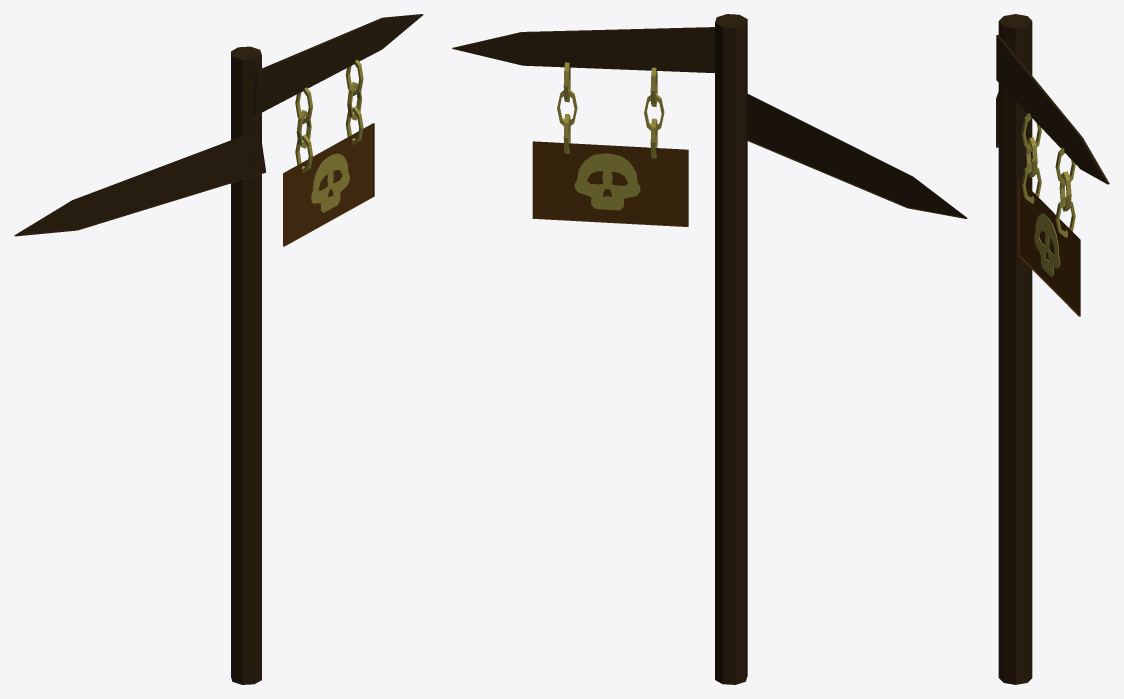
File: bord2.fbx
3 views of the same model, side by side, from view 1: azimuth 30°, elevation 25°; view 2: azimuth 150°, elevation 25°; view 3: azimuth 270°, elevation 25° (orthographic). The views are drawn at different scales.
Parts seen in each view (by area): view 1: Plane.010; view 2: Plane.010; view 3: Plane.010.
Boxes of the visible parts, <box> form: Plane.010: <box>14,14,423,684</box>; Plane.010: <box>452,14,967,684</box>; Plane.010: <box>996,14,1109,684</box>.
Size of the model in its own units: 478 by 635 by 99.87.
